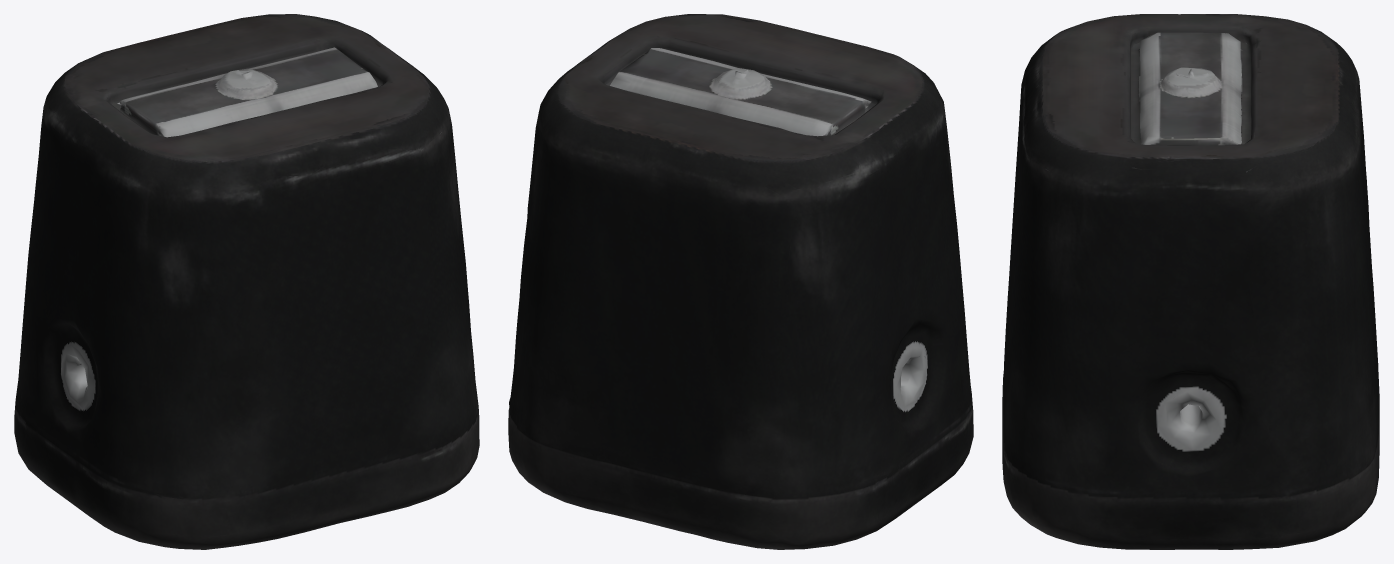
File: library_PencilSharpener.glb
The picture shows the model from 3 angles, left to right: view 1: azimuth 30°, elevation 25°; view 2: azimuth 150°, elevation 25°; view 3: azimuth 270°, elevation 25°; orthographic projection.
Visible parts, largest first — view 1: world; view 2: world; view 3: world.
Part boxes in pixels (x1,y1,x2,y2): world: [14, 14, 479, 549]; world: [508, 14, 973, 549]; world: [1002, 14, 1379, 549].
Size of the model in its own units: 0.9819 by 0.9952 by 0.857.
1 material, 1 textured.
